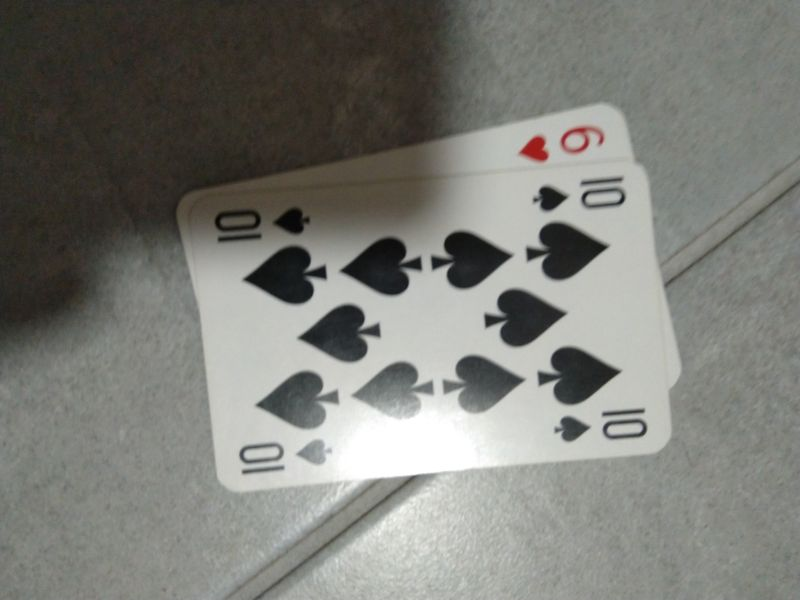6h: (516, 116, 612, 166)
Ts: (527, 172, 633, 219), (234, 433, 340, 480), (209, 201, 316, 246), (550, 402, 651, 447)
